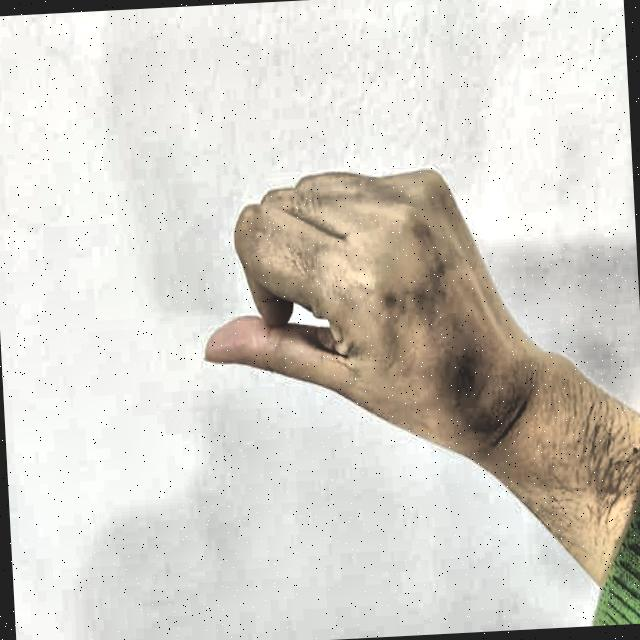Ay: (174, 112, 502, 524)
